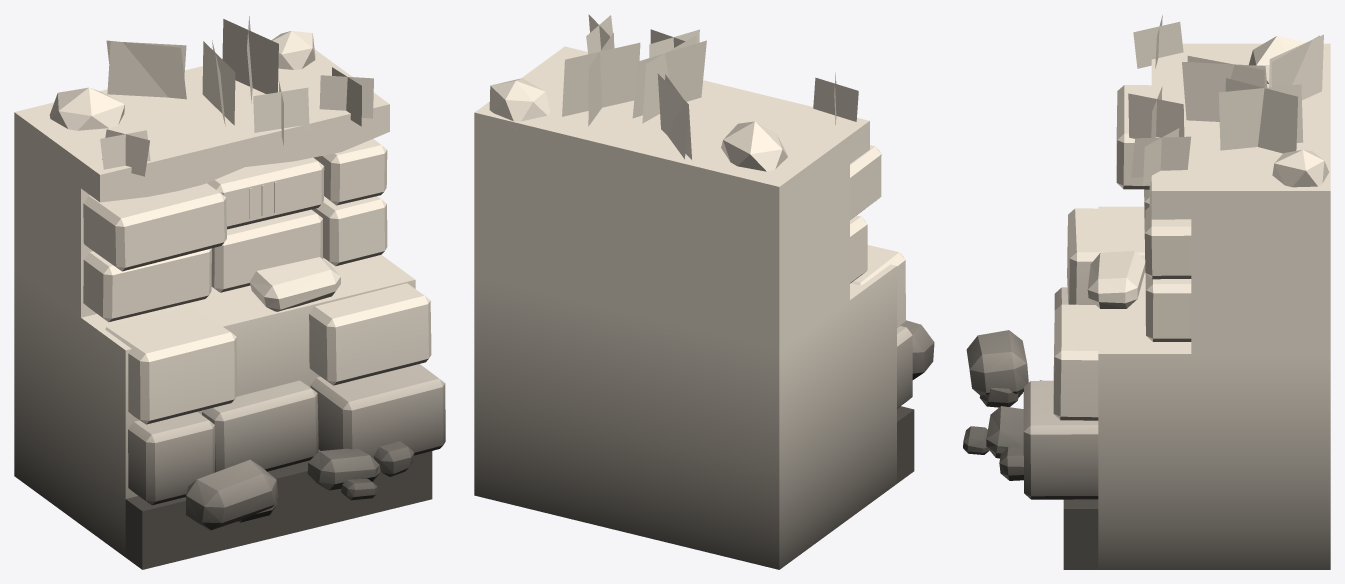
File: SM_VK_Quarry_Face_Straight.fbx
3 views of the same model, side by side, from view 1: azimuth 30°, elevation 25°; view 2: azimuth 150°, elevation 25°; view 3: azimuth 270°, elevation 25° (orthographic). The views are drawn at different scales.
Visible parts, largest first — view 1: SM_VK_Quarry_Face_Straight.001; view 2: SM_VK_Quarry_Face_Straight.001; view 3: SM_VK_Quarry_Face_Straight.001.
Boxes of the visible parts, box(x1,y1,x2,y2) form: SM_VK_Quarry_Face_Straight.001: box(14, 16, 445, 569); SM_VK_Quarry_Face_Straight.001: box(474, 14, 934, 569); SM_VK_Quarry_Face_Straight.001: box(963, 15, 1330, 569).
Bounding box in the file's own units: 3 × 4.15 × 3.17.
